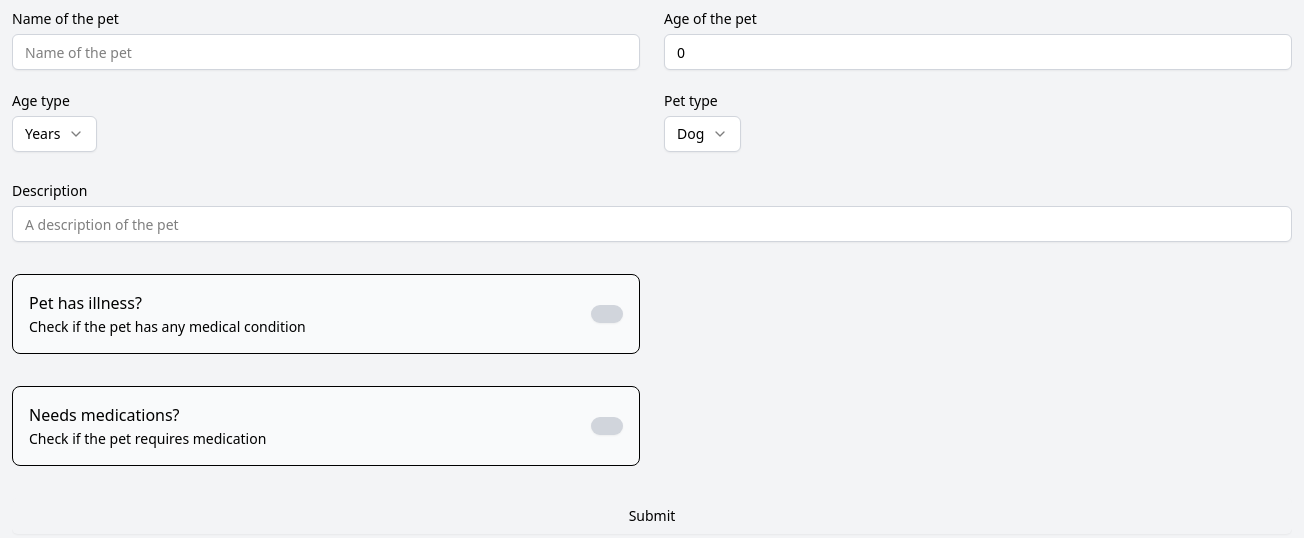
Test: Post pet form tests › Should show medication description field when needMedications is checked
This screenshot has width=1304, height=538.
Expected: the text "Medication Description" is not shown
Click the switch named "needs medications" in the row of "Check if the pet requires medication" at point(607, 426), box [591,417,623,435]
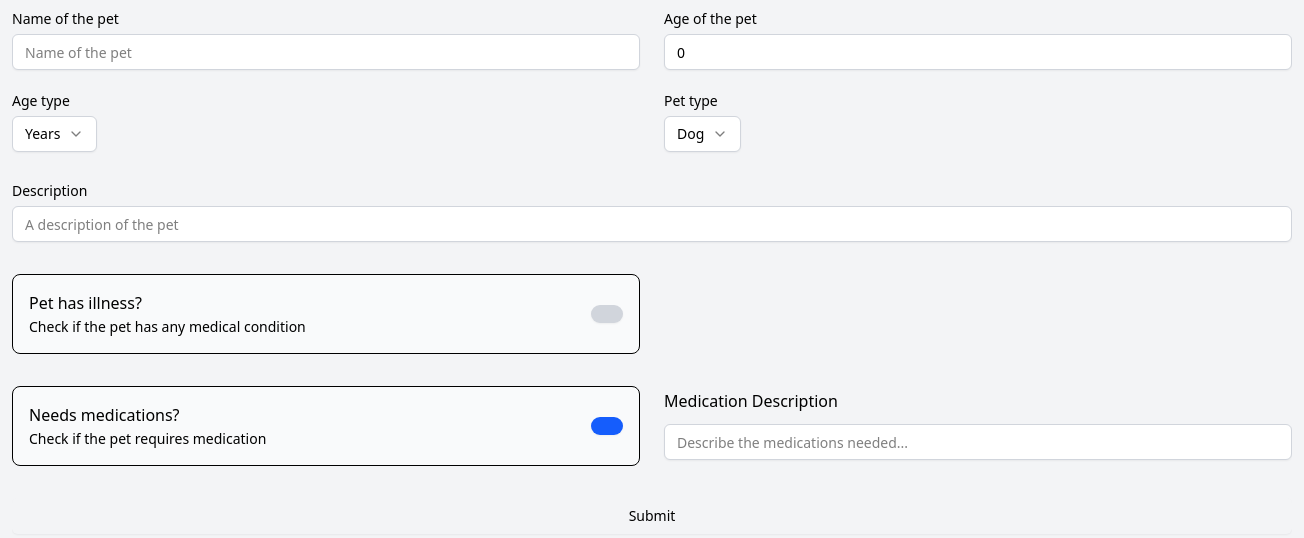
Expected: the text "Medication Description" is shown, [664,390,838,412]
